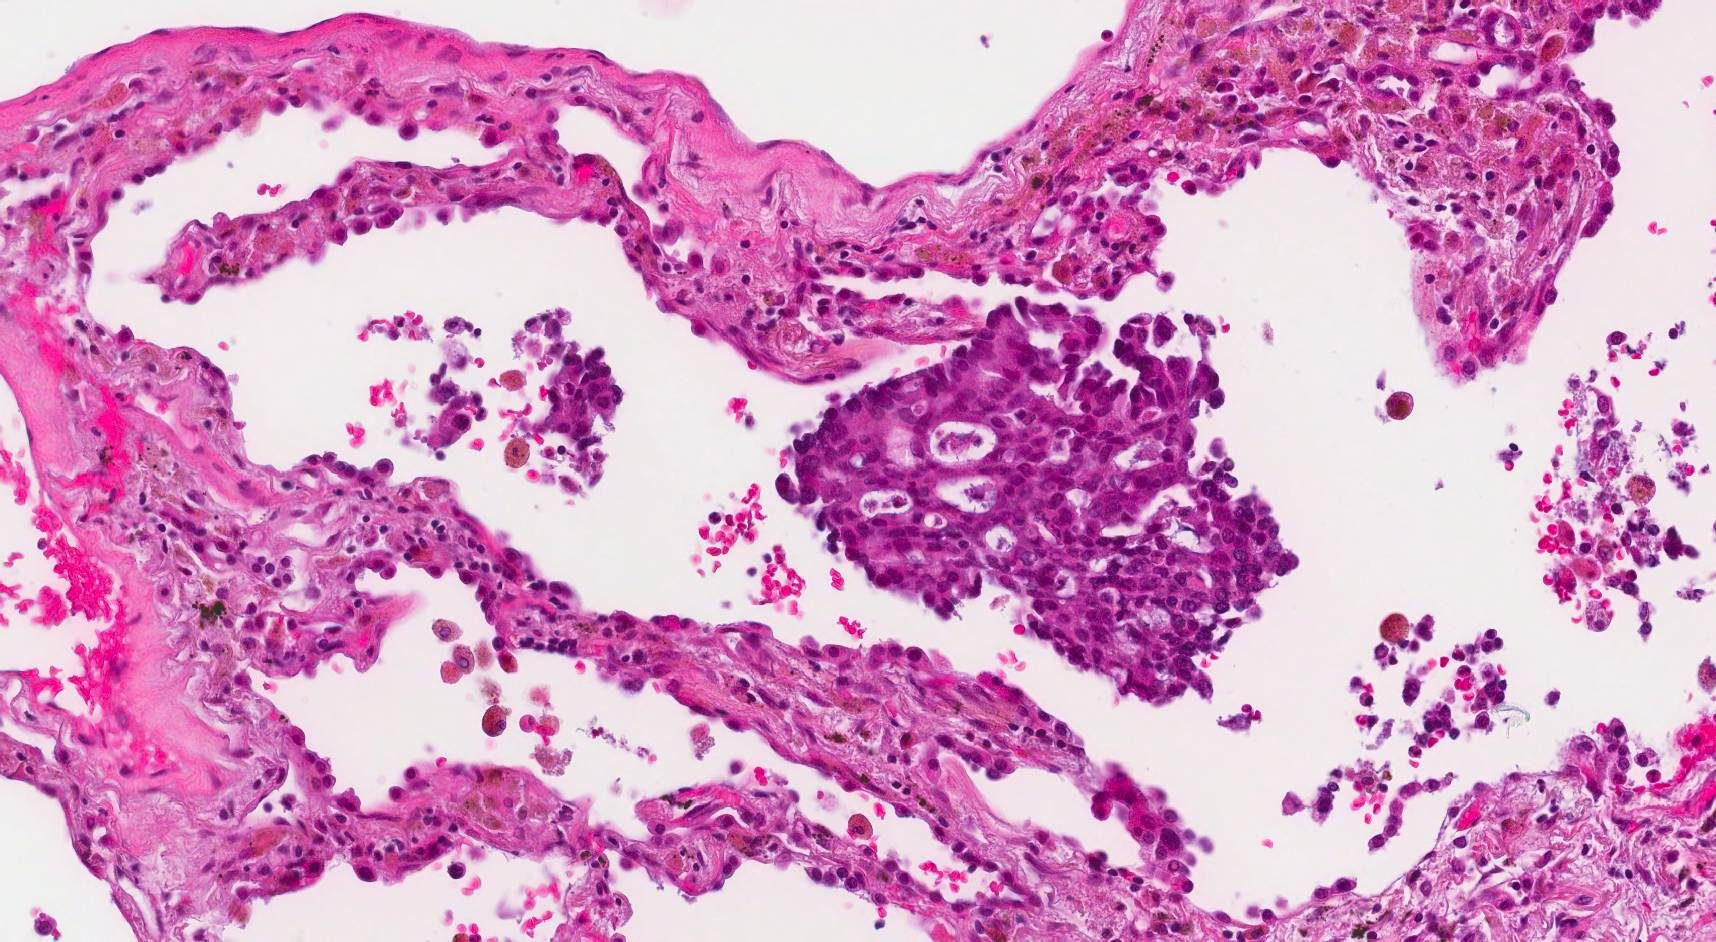stas: (771, 293, 1298, 709), (516, 306, 622, 450), (427, 377, 487, 452)
